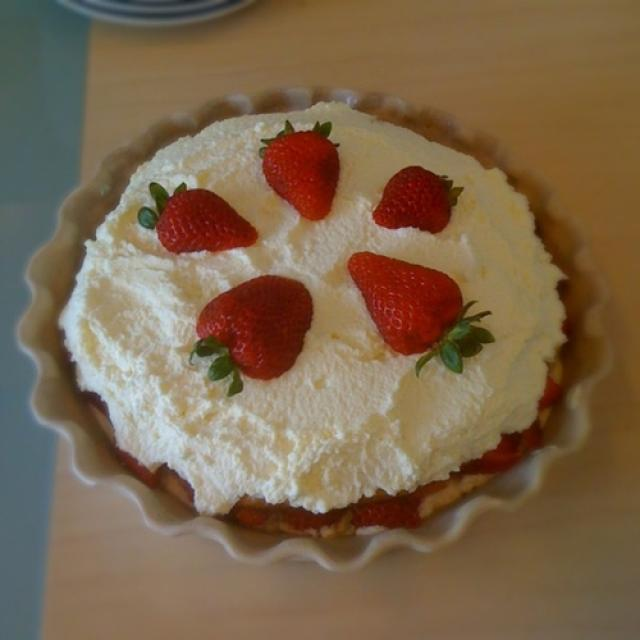蛋糕甜品: (19, 35, 612, 586)
